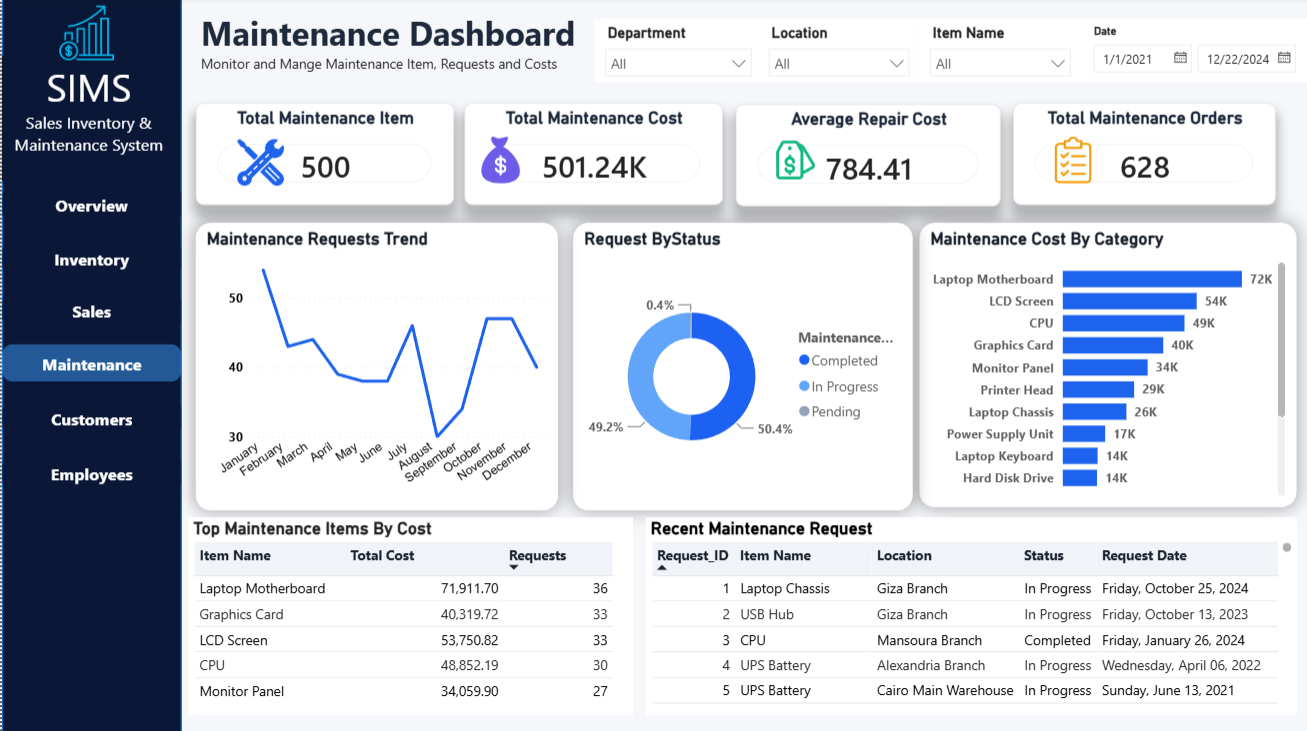

The dashboard page shown, as its layout file describes it:
{"tool":"powerbi","page":{"name":"Maintenance","canvas":[1280,720],"ordinal":3},"visuals":[{"type":"shape","box":[0,0,175.6,720.4],"z":0},{"type":"textbox","box":[189.4,8.2,389.7,86.4],"z":1000},{"type":"slicer","fields":{"Values":["departments.Name"]},"box":[579.1,22,163.3,61.7],"z":2000},{"type":"slicer","fields":{"Values":["stock_location.Location"]},"box":[739.6,22,157.8,61.7],"z":3000},{"type":"slicer","fields":{"Values":["maintenance_item.Date"]},"box":[1055.2,22,225,61.7],"z":4000},{"type":"slicer","fields":{"Values":["item_name.item_name"]},"box":[897.4,22,157.8,61.7],"z":5000},{"type":"cardVisual","title":"Total Maintenance Item","fields":{"Data":["Count(maintenance_item.Maintenance_item_id)"]},"box":[189.4,104.3,252.5,100.2],"z":6000},{"type":"cardVisual","title":"Total Maintenance Cost","fields":{"Data":["Sum(maintenance.Total_Reparing_price)"]},"box":[452.8,104.3,252.5,100.2],"z":7000},{"type":"cardVisual","title":"Average Repair Cost ","fields":{"Data":["Avg(maintenance_item.Reparing_price)"]},"box":[717.7,105.7,259.3,100.2],"z":8000},{"type":"cardVisual","title":"Total Maintenance Orders","fields":{"Data":["Count(maintenance.Maintenance_id)"]},"box":[989.4,104.3,256.6,100.2],"z":9000},{"type":"barChart","title":"Maintenance Cost By Category","fields":{"Y":["Sum(maintenance_item.Reparing_price)"],"Category":["item_name.item_name"]},"box":[897.4,220.9,369.1,278.6],"z":10000},{"type":"donutChart","title":"Request ByStatus","fields":{"Category":["maintenance_item.Maintenance_Status"],"Y":["CountNonNull(maintenance_item.Maintenance_item_id)"]},"box":[558.5,220.9,332.1,281.3],"z":11000},{"type":"lineChart","title":"Maintenance Requests Trend","fields":{"Y":["CountNonNull(maintenance_item.Maintenance_item_id)"],"Category":["maintenance_item.Date.Variation.Date Hierarchy.Month"]},"box":[189.4,220.9,354,281.3],"z":12000},{"type":"tableEx","title":"Top Maintenance Items By Cost","fields":{"Values":["item_name.item_name","Sum(maintenance_item.Reparing_price)","maintenance_item.Maintenance_item_id"]},"box":[182.5,510.5,435,193.5],"z":13000},{"type":"tableEx","title":"Recent Maintenance Request","fields":{"Values":["maintenance_item.Maintenance_item_id","item_name.item_name","stock_location.Location","maintenance_item.Maintenance_Status","maintenance_item.Date"]},"box":[629.8,510.5,636.7,193.5],"z":14000},{"type":"image","box":[182.5,140,141.3,45.3],"z":15000},{"type":"image","box":[417.2,137.2,141.3,45.3],"z":16000},{"type":"actionButton","box":[0,185.2,175.6,37],"z":17000},{"type":"actionButton","box":[0,237.4,175.6,37],"z":18000},{"type":"actionButton","box":[0,288.2,175.6,37],"z":19000},{"type":"actionButton","box":[0,340.3,175.6,37],"z":20000},{"type":"actionButton","box":[0,393.8,175.6,37],"z":21000},{"type":"actionButton","box":[0,447.3,175.6,37],"z":22000},{"type":"textbox","box":[0,57.6,170.2,123.5],"z":24000},{"type":"image","box":[0,8.2,166,53.5],"z":25000},{"type":"image","box":[705.3,137.2,141.3,45.3],"z":26000},{"type":"image","box":[977,137.2,141.3,45.3],"z":27000}]}

Visuals, with their boxes on the page's 1280x720 design canvas (x1, y1, x2, y2). These are canvas units, not pixel positions in the 1307x731 screenshot, which may show the page scaled, cropped or inside an application window:
shape: l=0, t=0, r=176, b=720
textbox: l=189, t=8, r=579, b=95
slicer - departments.Name: l=579, t=22, r=742, b=84
slicer - stock_location.Location: l=740, t=22, r=897, b=84
slicer - maintenance_item.Date: l=1055, t=22, r=1280, b=84
slicer - item_name.item_name: l=897, t=22, r=1055, b=84
"Total Maintenance Item" cardVisual: l=189, t=104, r=442, b=204
"Total Maintenance Cost" cardVisual: l=453, t=104, r=705, b=204
"Average Repair Cost " cardVisual: l=718, t=106, r=977, b=206
"Total Maintenance Orders" cardVisual: l=989, t=104, r=1246, b=204
"Maintenance Cost By Category" barChart: l=897, t=221, r=1266, b=500
"Request ByStatus" donutChart: l=558, t=221, r=891, b=502
"Maintenance Requests Trend" lineChart: l=189, t=221, r=543, b=502
"Top Maintenance Items By Cost" tableEx: l=182, t=510, r=618, b=704
"Recent Maintenance Request" tableEx: l=630, t=510, r=1266, b=704
image: l=182, t=140, r=324, b=185
image: l=417, t=137, r=558, b=182
actionButton: l=0, t=185, r=176, b=222
actionButton: l=0, t=237, r=176, b=274
actionButton: l=0, t=288, r=176, b=325
actionButton: l=0, t=340, r=176, b=377
actionButton: l=0, t=394, r=176, b=431
actionButton: l=0, t=447, r=176, b=484
textbox: l=0, t=58, r=170, b=181
image: l=0, t=8, r=166, b=62
image: l=705, t=137, r=847, b=182
image: l=977, t=137, r=1118, b=182
